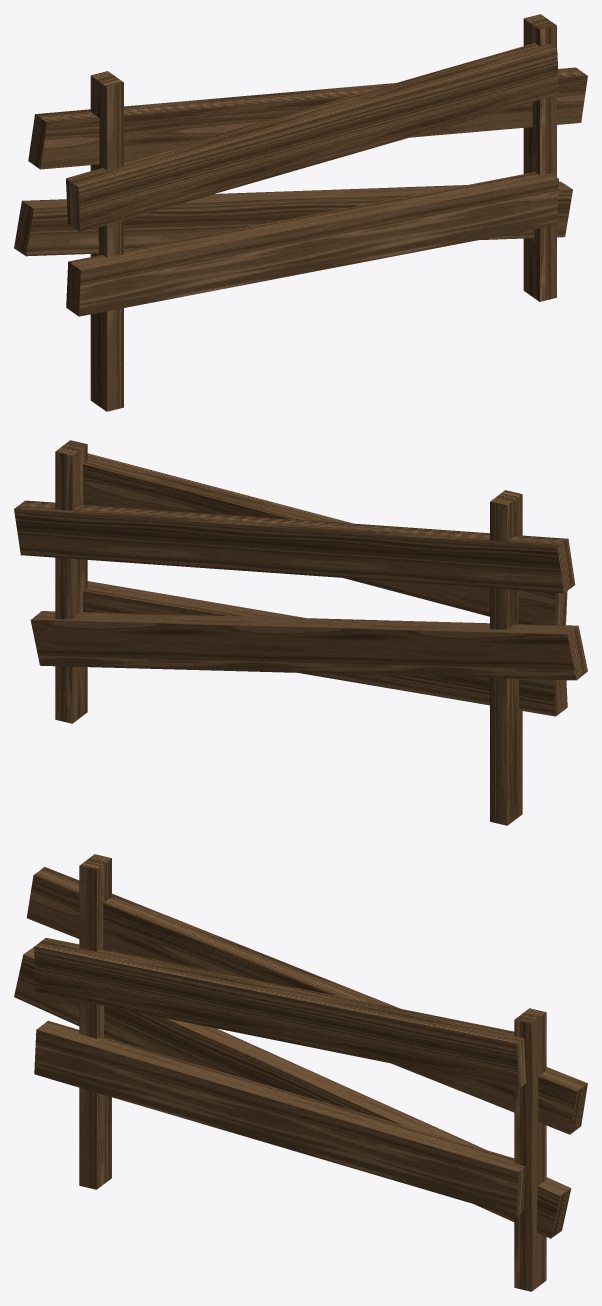
Rendered from Wooden5.obj.
3 views of the same model, one above another, from view 1: azimuth 30°, elevation 25°; view 2: azimuth 150°, elevation 25°; view 3: azimuth 330°, elevation 25° (orthographic).
Visible parts, largest first — view 1: Wooden_20.001_Cube.012; view 2: Wooden_20.001_Cube.012; view 3: Wooden_20.001_Cube.012.
Boxes of the visible parts, x1,y1,x2,y2 form: Wooden_20.001_Cube.012: (14,14,587,411); Wooden_20.001_Cube.012: (14,440,587,825); Wooden_20.001_Cube.012: (14,854,587,1291).
Bounding box in the file's own units: 8.61 × 4.71 × 0.8567.
